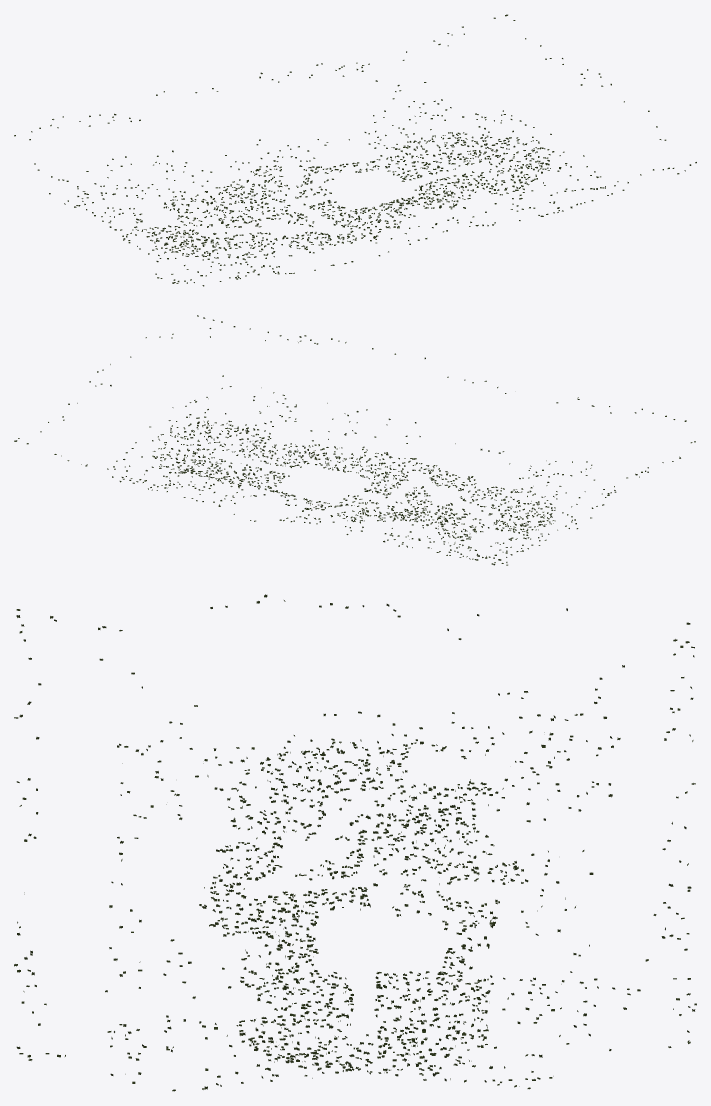
Rendered from SM_Art_Cover_L_CrownCitadelApproach_GrassBlades.gltf.
The picture shows the model from 3 angles, top to bottom: view 1: azimuth 30°, elevation 25°; view 2: azimuth 150°, elevation 25°; view 3: azimuth 270°, elevation 25°; orthographic projection. The views are drawn at different scales.
Visible parts, largest first — view 1: SM_Art_Cover_L_CrownCitadelApproach_GrassBlades; view 2: SM_Art_Cover_L_CrownCitadelApproach_GrassBlades; view 3: SM_Art_Cover_L_CrownCitadelApproach_GrassBlades.
Boxes of the visible parts, bbox=[...] form: SM_Art_Cover_L_CrownCitadelApproach_GrassBlades: bbox=[14, 14, 696, 286]; SM_Art_Cover_L_CrownCitadelApproach_GrassBlades: bbox=[14, 315, 695, 565]; SM_Art_Cover_L_CrownCitadelApproach_GrassBlades: bbox=[14, 594, 696, 1091].
Bounding box in the file's own units: 248 × 28.4 × 161.
Materials: 1 (1 with a texture image).
